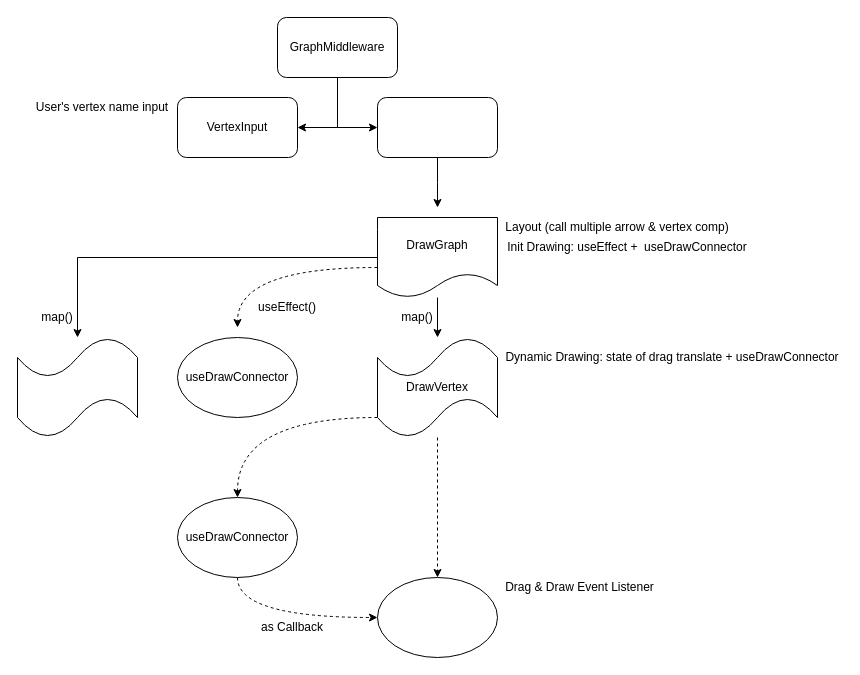
The diagram is 860 pixels wide and 675 high, and some of its shapes have lost their labels. Each missing label, with the centre of its shape:
"CreateVertex" goes at [437,127].
"DrawArrow" goes at [77,387].
"useDrag" goes at [437,617].
